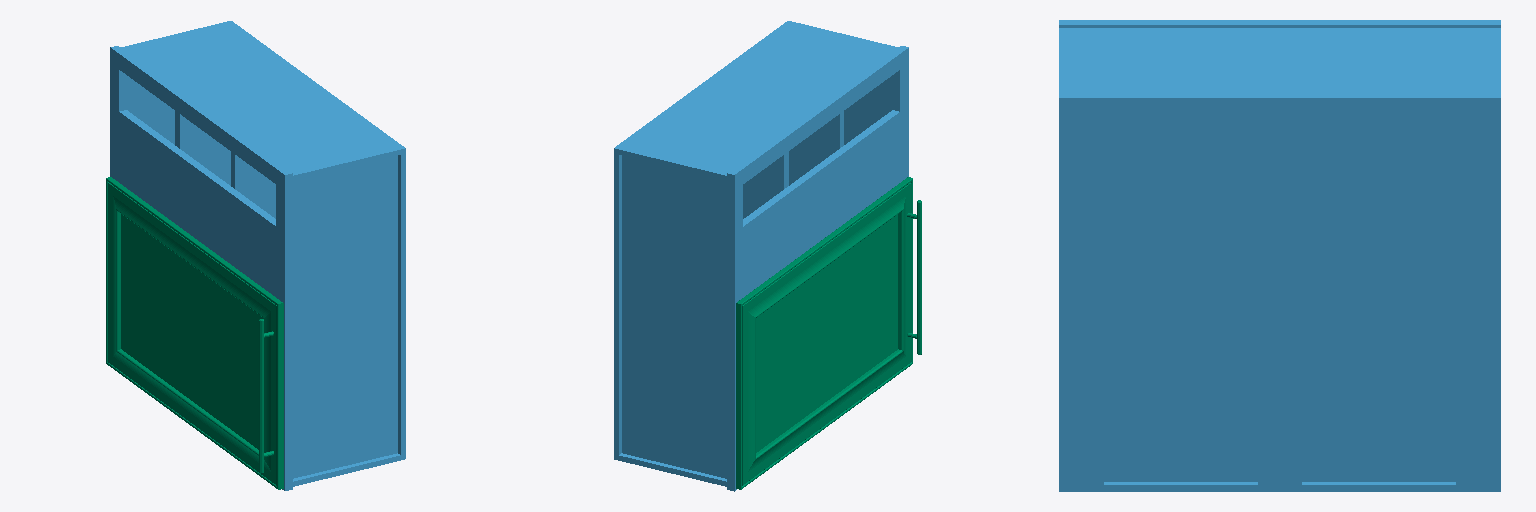
URDF robot description (partnet_38c9f4bc9c5583d7824662341ce2b233):
<?xml version="1.0" ?>
<robot name="partnet_38c9f4bc9c5583d7824662341ce2b233">
	<link name="base"/>
	<link name="link_0">
		<visual name="vertical_side_panel-6">
			<origin xyz="0 0 0"/>
			<geometry>
				<mesh filename="textured_objs/original-3.obj"/>
			</geometry>
		</visual>
		<visual name="vertical_side_panel-6">
			<origin xyz="0 0 0"/>
			<geometry>
				<mesh filename="textured_objs/original-2.obj"/>
			</geometry>
		</visual>
		<visual name="vertical_side_panel-7">
			<origin xyz="0 0 0"/>
			<geometry>
				<mesh filename="textured_objs/original-14.obj"/>
			</geometry>
		</visual>
		<visual name="vertical_side_panel-7">
			<origin xyz="0 0 0"/>
			<geometry>
				<mesh filename="textured_objs/original-15.obj"/>
			</geometry>
		</visual>
		<visual name="vertical_front_panel-8">
			<origin xyz="0 0 0"/>
			<geometry>
				<mesh filename="textured_objs/original-18.obj"/>
			</geometry>
		</visual>
		<visual name="vertical_divider_panel-9">
			<origin xyz="0 0 0"/>
			<geometry>
				<mesh filename="textured_objs/original-19.obj"/>
			</geometry>
		</visual>
		<visual name="vertical_divider_panel-10">
			<origin xyz="0 0 0"/>
			<geometry>
				<mesh filename="textured_objs/original-21.obj"/>
			</geometry>
		</visual>
		<visual name="back_panel-11">
			<origin xyz="0 0 0"/>
			<geometry>
				<mesh filename="textured_objs/original-8.obj"/>
			</geometry>
		</visual>
		<visual name="back_panel-11">
			<origin xyz="0 0 0"/>
			<geometry>
				<mesh filename="textured_objs/original-7.obj"/>
			</geometry>
		</visual>
		<visual name="bottom_panel-12">
			<origin xyz="0 0 0"/>
			<geometry>
				<mesh filename="textured_objs/original-9.obj"/>
			</geometry>
		</visual>
		<visual name="top_panel-13">
			<origin xyz="0 0 0"/>
			<geometry>
				<mesh filename="textured_objs/original-10.obj"/>
			</geometry>
		</visual>
		<visual name="frame_vertical_bar-14">
			<origin xyz="0 0 0"/>
			<geometry>
				<mesh filename="textured_objs/original-4.obj"/>
			</geometry>
		</visual>
		<visual name="frame_vertical_bar-15">
			<origin xyz="0 0 0"/>
			<geometry>
				<mesh filename="textured_objs/original-17.obj"/>
			</geometry>
		</visual>
		<visual name="frame_vertical_bar-16">
			<origin xyz="0 0 0"/>
			<geometry>
				<mesh filename="textured_objs/original-20.obj"/>
			</geometry>
		</visual>
		<visual name="frame_vertical_bar-17">
			<origin xyz="0 0 0"/>
			<geometry>
				<mesh filename="textured_objs/original-5.obj"/>
			</geometry>
		</visual>
		<visual name="frame_vertical_bar-18">
			<origin xyz="0 0 0"/>
			<geometry>
				<mesh filename="textured_objs/original-16.obj"/>
			</geometry>
		</visual>
		<visual name="frame_horizontal_bar-19">
			<origin xyz="0 0 0"/>
			<geometry>
				<mesh filename="textured_objs/original-12.obj"/>
			</geometry>
		</visual>
		<visual name="frame_horizontal_bar-20">
			<origin xyz="0 0 0"/>
			<geometry>
				<mesh filename="textured_objs/original-11.obj"/>
			</geometry>
		</visual>
		<visual name="other_leaf-22">
			<origin xyz="0 0 0"/>
			<geometry>
				<mesh filename="textured_objs/original-38.obj"/>
			</geometry>
		</visual>
		<collision>
			<origin xyz="0 0 0"/>
			<geometry>
				<mesh filename="textured_objs/original-3.obj"/>
			</geometry>
		</collision>
		<collision>
			<origin xyz="0 0 0"/>
			<geometry>
				<mesh filename="textured_objs/original-2.obj"/>
			</geometry>
		</collision>
		<collision>
			<origin xyz="0 0 0"/>
			<geometry>
				<mesh filename="textured_objs/original-14.obj"/>
			</geometry>
		</collision>
		<collision>
			<origin xyz="0 0 0"/>
			<geometry>
				<mesh filename="textured_objs/original-15.obj"/>
			</geometry>
		</collision>
		<collision>
			<origin xyz="0 0 0"/>
			<geometry>
				<mesh filename="textured_objs/original-18.obj"/>
			</geometry>
		</collision>
		<collision>
			<origin xyz="0 0 0"/>
			<geometry>
				<mesh filename="textured_objs/original-19.obj"/>
			</geometry>
		</collision>
		<collision>
			<origin xyz="0 0 0"/>
			<geometry>
				<mesh filename="textured_objs/original-21.obj"/>
			</geometry>
		</collision>
		<collision>
			<origin xyz="0 0 0"/>
			<geometry>
				<mesh filename="textured_objs/original-8.obj"/>
			</geometry>
		</collision>
		<collision>
			<origin xyz="0 0 0"/>
			<geometry>
				<mesh filename="textured_objs/original-7.obj"/>
			</geometry>
		</collision>
		<collision>
			<origin xyz="0 0 0"/>
			<geometry>
				<mesh filename="textured_objs/original-9.obj"/>
			</geometry>
		</collision>
		<collision>
			<origin xyz="0 0 0"/>
			<geometry>
				<mesh filename="textured_objs/original-10.obj"/>
			</geometry>
		</collision>
		<collision>
			<origin xyz="0 0 0"/>
			<geometry>
				<mesh filename="textured_objs/original-4.obj"/>
			</geometry>
		</collision>
		<collision>
			<origin xyz="0 0 0"/>
			<geometry>
				<mesh filename="textured_objs/original-17.obj"/>
			</geometry>
		</collision>
		<collision>
			<origin xyz="0 0 0"/>
			<geometry>
				<mesh filename="textured_objs/original-20.obj"/>
			</geometry>
		</collision>
		<collision>
			<origin xyz="0 0 0"/>
			<geometry>
				<mesh filename="textured_objs/original-5.obj"/>
			</geometry>
		</collision>
		<collision>
			<origin xyz="0 0 0"/>
			<geometry>
				<mesh filename="textured_objs/original-16.obj"/>
			</geometry>
		</collision>
		<collision>
			<origin xyz="0 0 0"/>
			<geometry>
				<mesh filename="textured_objs/original-12.obj"/>
			</geometry>
		</collision>
		<collision>
			<origin xyz="0 0 0"/>
			<geometry>
				<mesh filename="textured_objs/original-11.obj"/>
			</geometry>
		</collision>
		<collision>
			<origin xyz="0 0 0"/>
			<geometry>
				<mesh filename="textured_objs/original-38.obj"/>
			</geometry>
		</collision>
	</link>
	<joint name="joint_0" type="fixed">
		<origin rpy="1.570796326794897 0 -1.570796326794897" xyz="0 0 0"/>
		<child link="link_0"/>
		<parent link="base"/>
	</joint>
	<link name="link_1">
		<visual name="cabinet_door_surface-4">
			<origin xyz="0.7025948749624118 -0.7012249827384949 -0.27597472596501177"/>
			<geometry>
				<mesh filename="textured_objs/original-28.obj"/>
			</geometry>
		</visual>
		<visual name="cabinet_door_surface-4">
			<origin xyz="0.7025948749624118 -0.7012249827384949 -0.27597472596501177"/>
			<geometry>
				<mesh filename="textured_objs/original-33.obj"/>
			</geometry>
		</visual>
		<visual name="cabinet_door_surface-4">
			<origin xyz="0.7025948749624118 -0.7012249827384949 -0.27597472596501177"/>
			<geometry>
				<mesh filename="textured_objs/original-24.obj"/>
			</geometry>
		</visual>
		<visual name="cabinet_door_surface-4">
			<origin xyz="0.7025948749624118 -0.7012249827384949 -0.27597472596501177"/>
			<geometry>
				<mesh filename="textured_objs/original-30.obj"/>
			</geometry>
		</visual>
		<visual name="cabinet_door_surface-4">
			<origin xyz="0.7025948749624118 -0.7012249827384949 -0.27597472596501177"/>
			<geometry>
				<mesh filename="textured_objs/original-23.obj"/>
			</geometry>
		</visual>
		<visual name="cabinet_door_surface-4">
			<origin xyz="0.7025948749624118 -0.7012249827384949 -0.27597472596501177"/>
			<geometry>
				<mesh filename="textured_objs/original-32.obj"/>
			</geometry>
		</visual>
		<visual name="cabinet_door_surface-4">
			<origin xyz="0.7025948749624118 -0.7012249827384949 -0.27597472596501177"/>
			<geometry>
				<mesh filename="textured_objs/original-31.obj"/>
			</geometry>
		</visual>
		<visual name="cabinet_door_surface-4">
			<origin xyz="0.7025948749624118 -0.7012249827384949 -0.27597472596501177"/>
			<geometry>
				<mesh filename="textured_objs/original-25.obj"/>
			</geometry>
		</visual>
		<visual name="cabinet_door_surface-4">
			<origin xyz="0.7025948749624118 -0.7012249827384949 -0.27597472596501177"/>
			<geometry>
				<mesh filename="textured_objs/original-26.obj"/>
			</geometry>
		</visual>
		<visual name="cabinet_door_surface-4">
			<origin xyz="0.7025948749624118 -0.7012249827384949 -0.27597472596501177"/>
			<geometry>
				<mesh filename="textured_objs/original-29.obj"/>
			</geometry>
		</visual>
		<visual name="handle-5">
			<origin xyz="0.7025948749624118 -0.7012249827384949 -0.27597472596501177"/>
			<geometry>
				<mesh filename="textured_objs/original-37.obj"/>
			</geometry>
		</visual>
		<visual name="handle-5">
			<origin xyz="0.7025948749624118 -0.7012249827384949 -0.27597472596501177"/>
			<geometry>
				<mesh filename="textured_objs/original-36.obj"/>
			</geometry>
		</visual>
		<visual name="handle-5">
			<origin xyz="0.7025948749624118 -0.7012249827384949 -0.27597472596501177"/>
			<geometry>
				<mesh filename="textured_objs/original-35.obj"/>
			</geometry>
		</visual>
		<collision>
			<origin xyz="0.7025948749624118 -0.7012249827384949 -0.27597472596501177"/>
			<geometry>
				<mesh filename="textured_objs/original-28.obj"/>
			</geometry>
		</collision>
		<collision>
			<origin xyz="0.7025948749624118 -0.7012249827384949 -0.27597472596501177"/>
			<geometry>
				<mesh filename="textured_objs/original-33.obj"/>
			</geometry>
		</collision>
		<collision>
			<origin xyz="0.7025948749624118 -0.7012249827384949 -0.27597472596501177"/>
			<geometry>
				<mesh filename="textured_objs/original-24.obj"/>
			</geometry>
		</collision>
		<collision>
			<origin xyz="0.7025948749624118 -0.7012249827384949 -0.27597472596501177"/>
			<geometry>
				<mesh filename="textured_objs/original-30.obj"/>
			</geometry>
		</collision>
		<collision>
			<origin xyz="0.7025948749624118 -0.7012249827384949 -0.27597472596501177"/>
			<geometry>
				<mesh filename="textured_objs/original-23.obj"/>
			</geometry>
		</collision>
		<collision>
			<origin xyz="0.7025948749624118 -0.7012249827384949 -0.27597472596501177"/>
			<geometry>
				<mesh filename="textured_objs/original-32.obj"/>
			</geometry>
		</collision>
		<collision>
			<origin xyz="0.7025948749624118 -0.7012249827384949 -0.27597472596501177"/>
			<geometry>
				<mesh filename="textured_objs/original-31.obj"/>
			</geometry>
		</collision>
		<collision>
			<origin xyz="0.7025948749624118 -0.7012249827384949 -0.27597472596501177"/>
			<geometry>
				<mesh filename="textured_objs/original-25.obj"/>
			</geometry>
		</collision>
		<collision>
			<origin xyz="0.7025948749624118 -0.7012249827384949 -0.27597472596501177"/>
			<geometry>
				<mesh filename="textured_objs/original-26.obj"/>
			</geometry>
		</collision>
		<collision>
			<origin xyz="0.7025948749624118 -0.7012249827384949 -0.27597472596501177"/>
			<geometry>
				<mesh filename="textured_objs/original-29.obj"/>
			</geometry>
		</collision>
		<collision>
			<origin xyz="0.7025948749624118 -0.7012249827384949 -0.27597472596501177"/>
			<geometry>
				<mesh filename="textured_objs/original-37.obj"/>
			</geometry>
		</collision>
		<collision>
			<origin xyz="0.7025948749624118 -0.7012249827384949 -0.27597472596501177"/>
			<geometry>
				<mesh filename="textured_objs/original-36.obj"/>
			</geometry>
		</collision>
		<collision>
			<origin xyz="0.7025948749624118 -0.7012249827384949 -0.27597472596501177"/>
			<geometry>
				<mesh filename="textured_objs/original-35.obj"/>
			</geometry>
		</collision>
	</link>
	<joint name="joint_1" type="revolute">
		<origin xyz="-0.7025948749624118 0.7012249827384949 0.27597472596501177"/>
		<axis xyz="0 -1 0"/>
		<child link="link_1"/>
		<parent link="link_0"/>
		<limit lower="0.0" upper="2.9670597283903604"/>
	</joint>
</robot>

--- What the picture shows (computed from the rendered views, not written in the file) ---
The picture shows the robot from 3 angles, left to right: view 1: azimuth 30°, elevation 25°; view 2: azimuth 150°, elevation 25°; view 3: azimuth 270°, elevation 25°; orthographic projection.
Robot: partnet_38c9f4bc9c5583d7824662341ce2b233 — 3 links, 2 joints (1 revolute, 1 fixed); root link base; default pose: every joint at zero.
Links seen in each view (by area): view 1: link_0, link_1; view 2: link_0, link_1; view 3: link_0.
Boxes of the visible links, x1,y1,x2,y2 form: link_0: (110,21,405,490); link_1: (106,177,283,489); link_0: (614,21,908,491); link_1: (736,177,921,489); link_0: (1059,20,1500,491).
Size in the robot's own frame: 0.6506 by 1.4 by 1.4 metres.
32 mesh visuals loaded from 32 distinct referenced files (32 OBJ).
